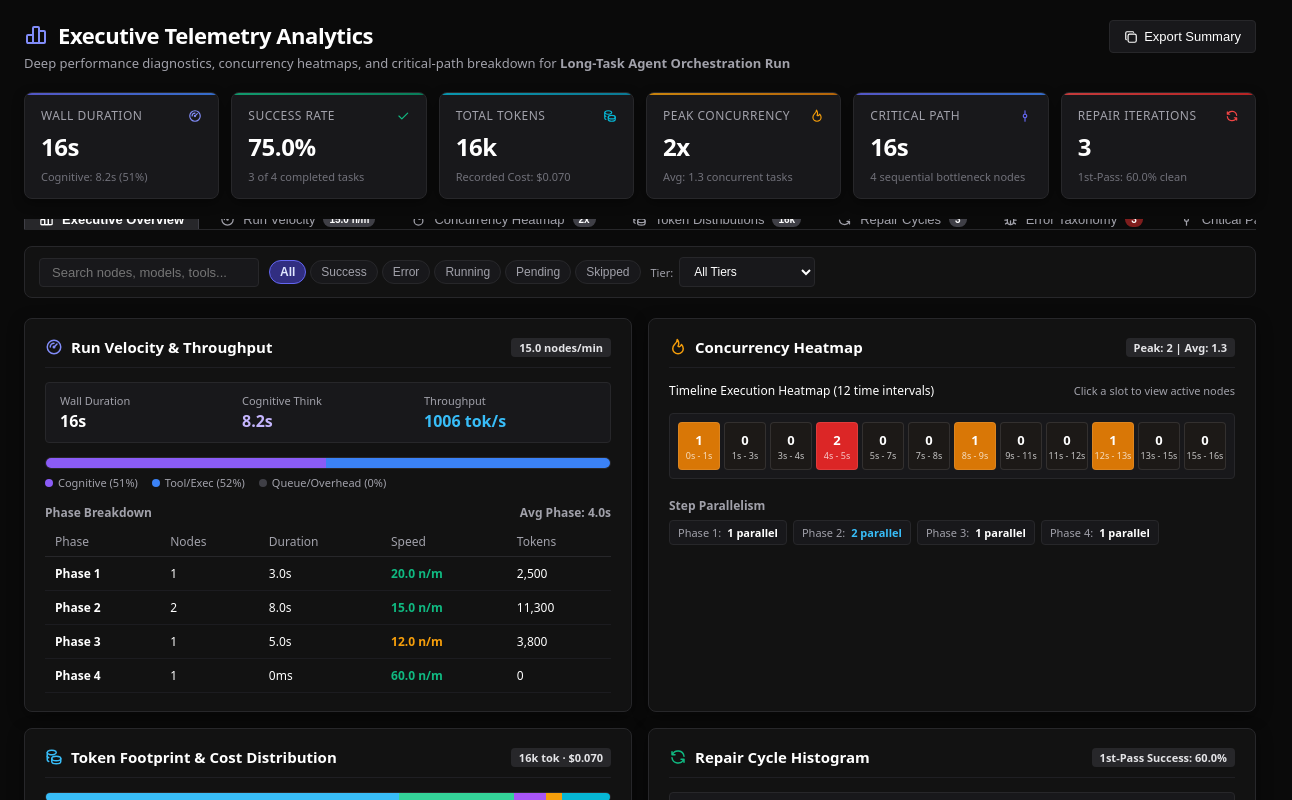
Analytics Dashboard & Telemetry Store › AnalyticsDashboard Component Hierarchy › switches tabs when tab buttons are clicked
Click the button with test id "tab-velocity": (298, 219) [205,202,390,236]
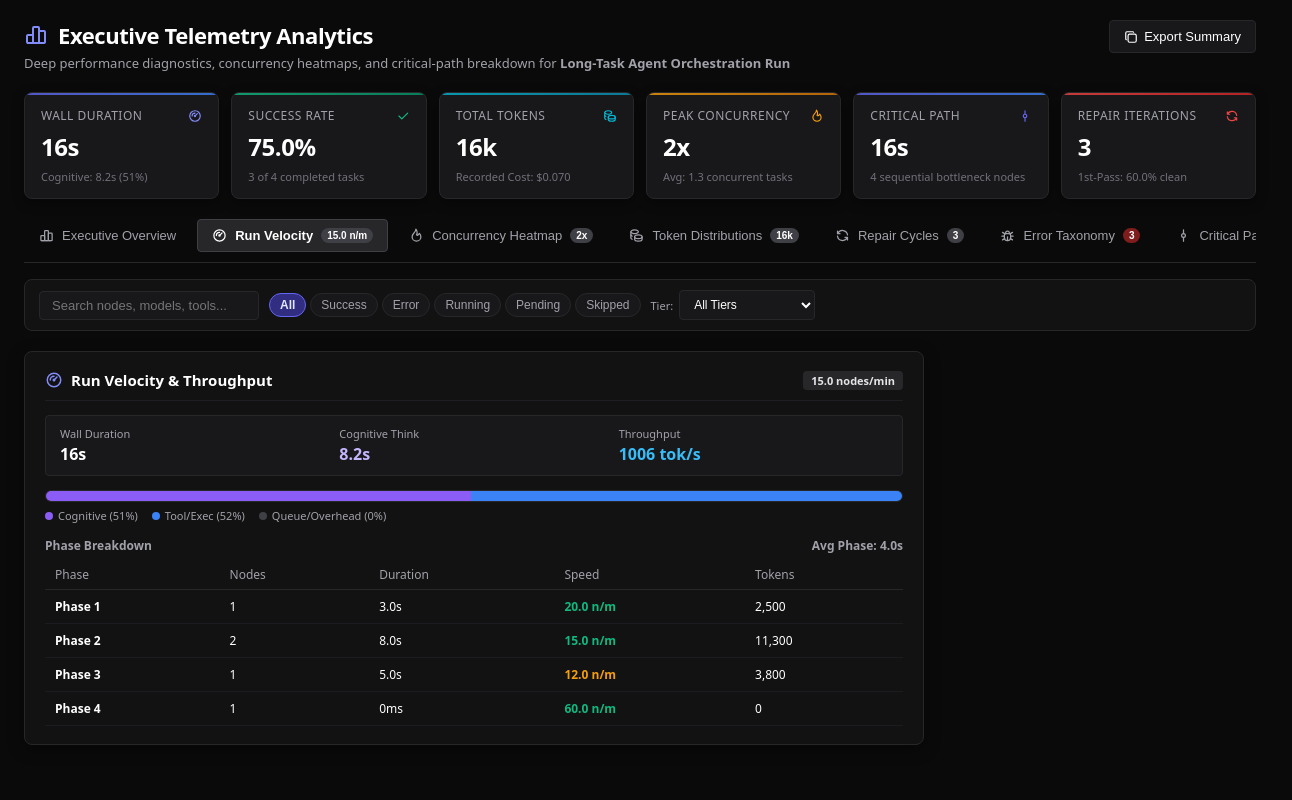
Expected: the element with test id "run-velocity-card" is shown, [24,351,924,745]
Click the button with test id "tab-tokens": (714, 236) [614,219,814,252]
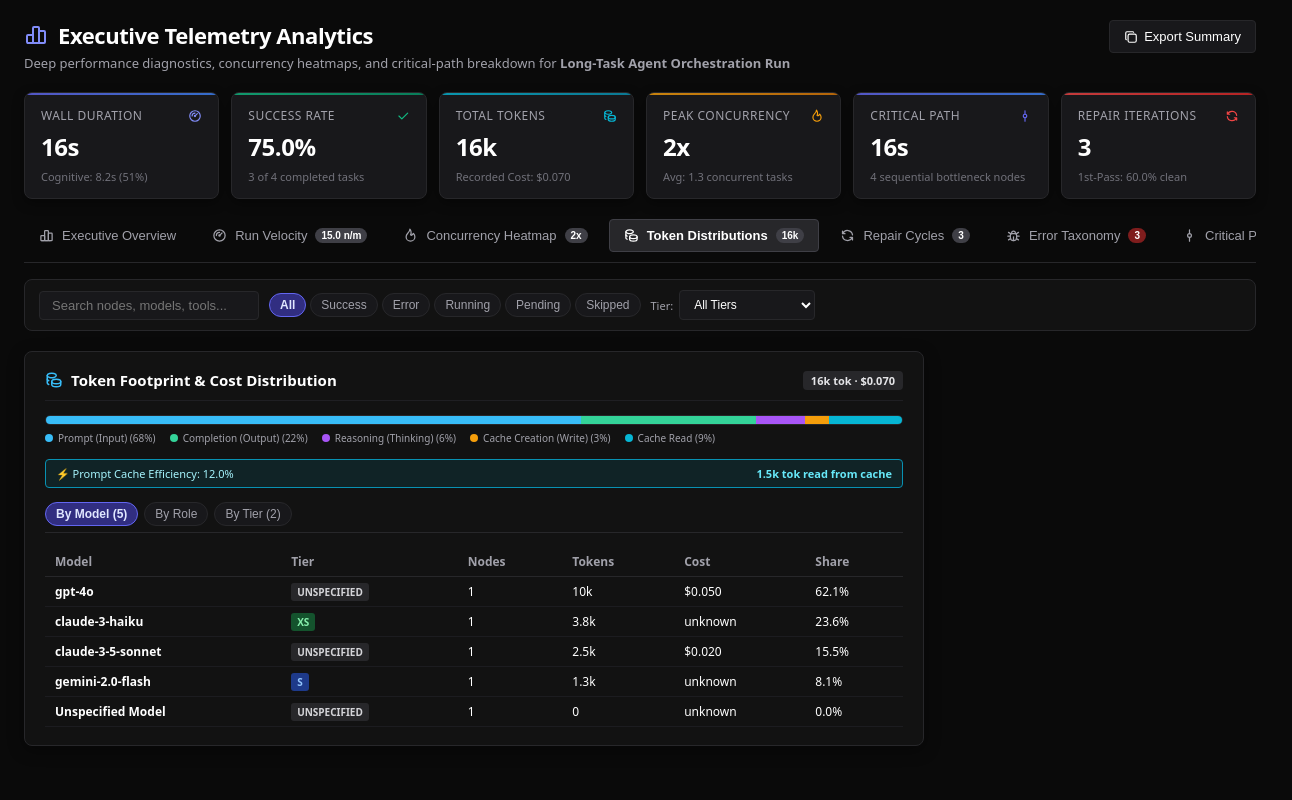
Expected: the element with test id "token-distribution-card" is shown, [24,351,924,746]
